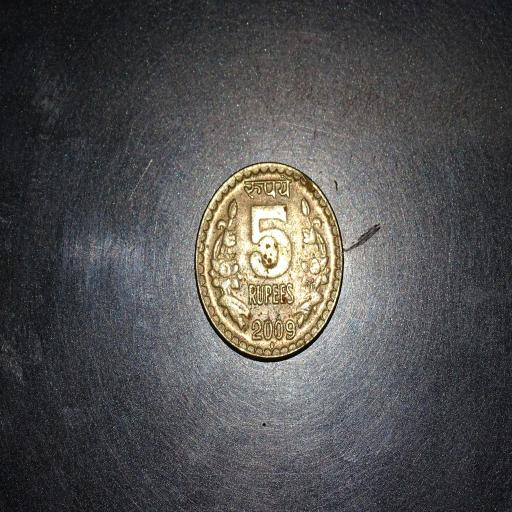rupee5: (193, 163, 348, 359)
